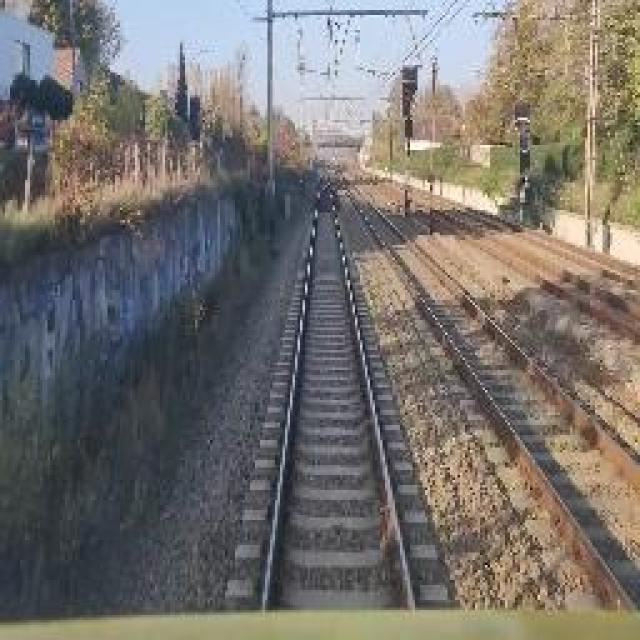rail: (329, 171, 640, 614), (200, 163, 463, 612), (346, 168, 640, 362)
